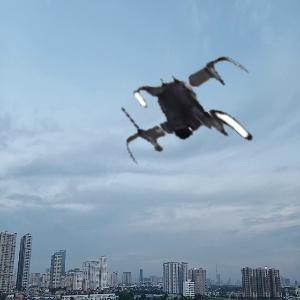drone: (117, 45, 273, 201)
